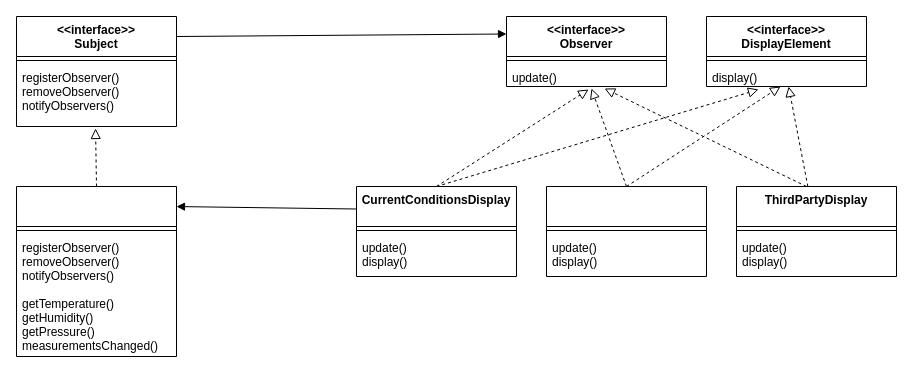
This 913x373 diagram has some shape labels left out. Here are the shapes that lost their labels. From the top down, the box of each, then its label:
(546, 186, 706, 276): StatisticsDisplay
(16, 186, 176, 356): WeatherData
